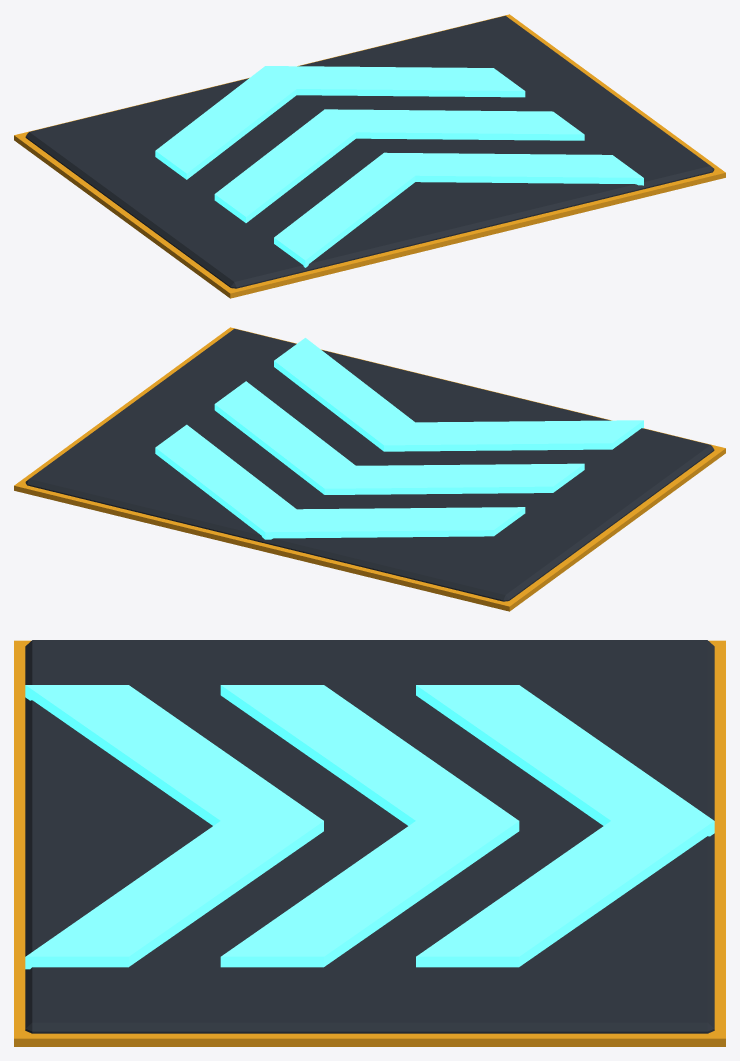
File: nitro_pad.glb
3 renders of one model, top to bottom at view 1: azimuth 30°, elevation 25°; view 2: azimuth 150°, elevation 25°; view 3: azimuth 270°, elevation 25°, orthographic. The views are drawn at different scales.
Parts seen in each view (by area): view 1: nitro_pad; view 2: nitro_pad; view 3: nitro_pad.
Boxes of the visible parts, <box> form: nitro_pad: <box>14,14,725,298</box>; nitro_pad: <box>14,327,725,611</box>; nitro_pad: <box>14,640,725,1046</box>.
Size of the model in its own units: 4.1 by 0.13 by 3.1.
